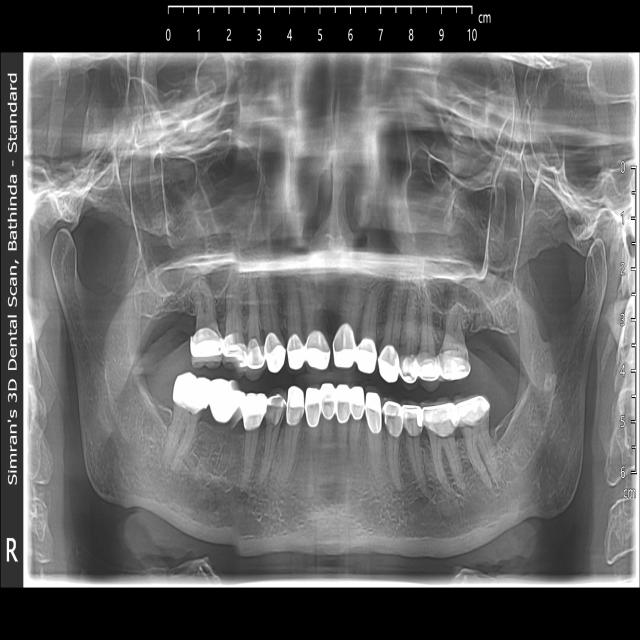Crown: (209, 379, 246, 427), (173, 371, 211, 415), (421, 396, 457, 439), (190, 327, 225, 370), (455, 395, 491, 426), (221, 332, 248, 372), (305, 329, 331, 370), (439, 350, 472, 381), (240, 393, 267, 430), (334, 324, 356, 367), (377, 342, 400, 383), (419, 350, 442, 391), (354, 336, 377, 373), (247, 338, 267, 380), (264, 334, 285, 374), (382, 398, 404, 436), (365, 384, 382, 433), (264, 390, 286, 427), (400, 351, 420, 390), (286, 385, 303, 428), (404, 400, 423, 437), (287, 333, 306, 369), (305, 389, 322, 427), (336, 385, 352, 425), (321, 382, 336, 420), (351, 387, 365, 420)
Mandibular Canal: (415, 377, 569, 528), (94, 360, 239, 507)
maxillary sinus: (129, 103, 262, 301), (404, 149, 525, 314)
